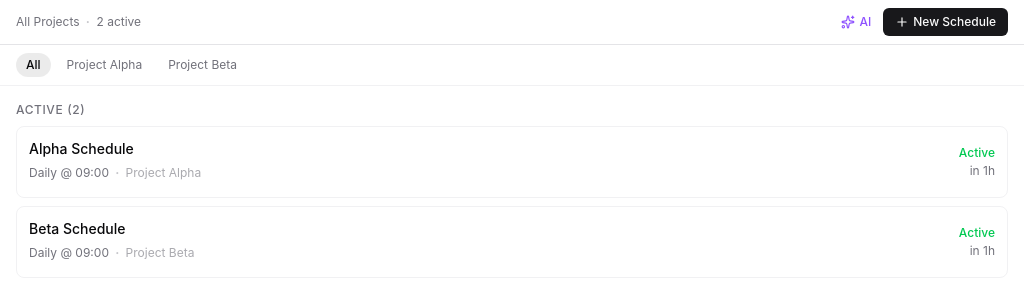
Scenario: ScheduleView › filters schedules by project pill only in All Projects scope
The image size is (1024, 295).
Expected: the text "Alpha Schedule" is shown, [29,140,134,157]
Expected: the text "Beta Schedule" is shown, [29,220,126,237]
Click the button "Project Beta" at point(203, 65), box [158,53,247,77]
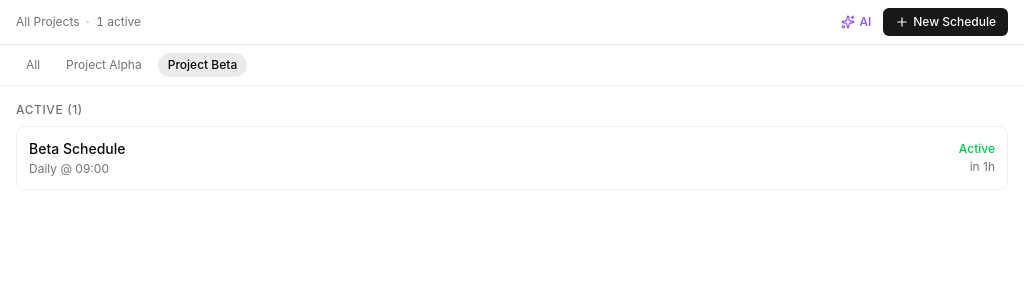
Expected: the text "Beta Schedule" is shown, [29,140,126,157]
Expected: the text "Alpha Schedule" is gone
